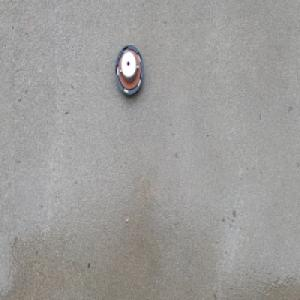FuelCap: (114, 43, 144, 96)
